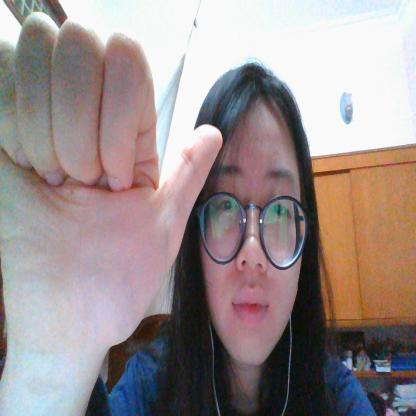left: (0, 1, 222, 346)
